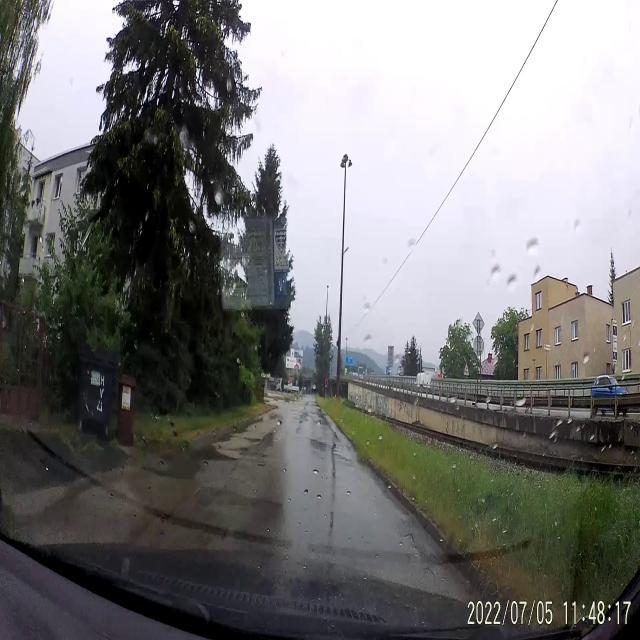Pothole: (256, 455, 270, 475)
